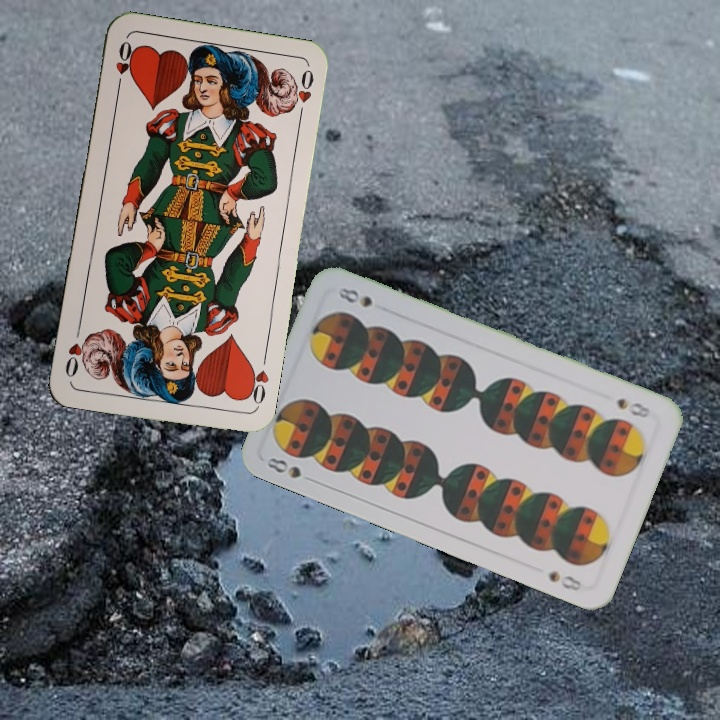HO: (241, 360, 272, 411), (111, 37, 137, 95)
S8: (261, 453, 319, 486), (613, 393, 653, 421)
